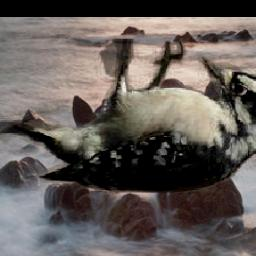Woodpecker: (0, 40, 256, 194)
